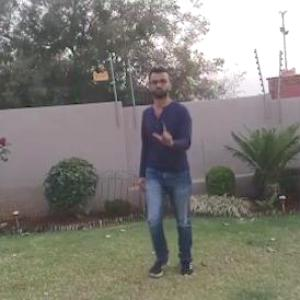land_hand: (151, 117, 176, 148)
